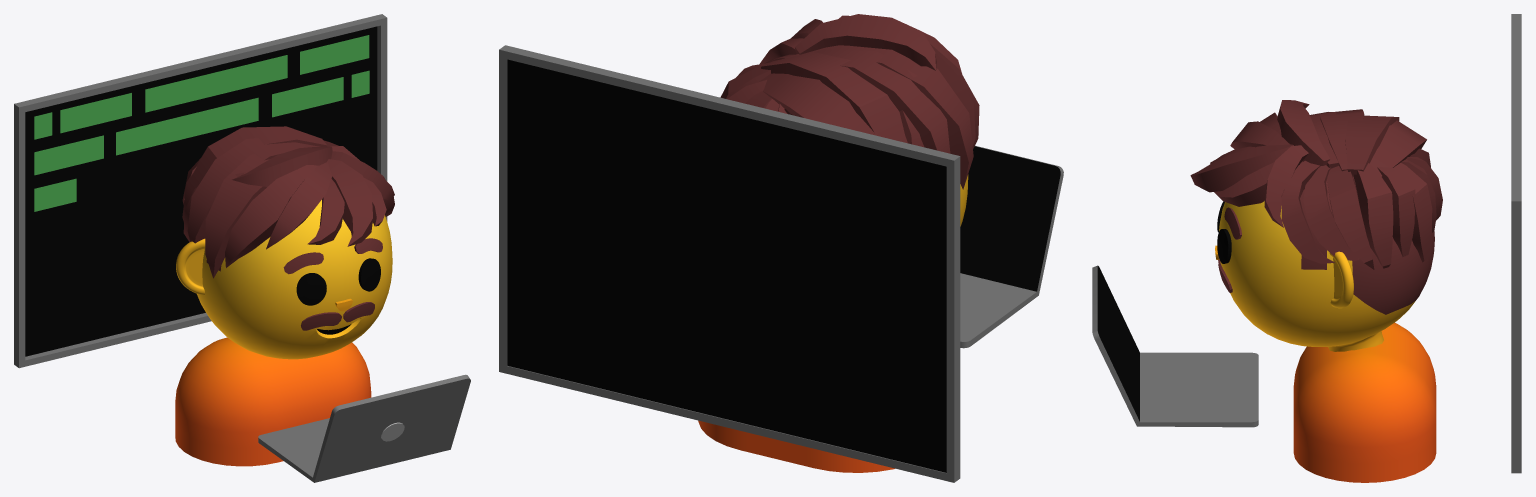
Rendered from man_technologist.glb.
3 views of the same model, side by side, from view 1: azimuth 30°, elevation 25°; view 2: azimuth 150°, elevation 25°; view 3: azimuth 270°, elevation 25° (orthographic). The views are drawn at different scales.
Parts seen in each view (by area): view 1: Plane.059, Cube.1475, Sphere.077, Roundcube.117, Plane.062, Circle.690, Cylinder.101, Circle.693, Circle.692; view 2: Plane.059, Cube.1475, Plane.062, Sphere.077; view 3: Cube.1475, Sphere.077, Roundcube.117, Plane.062, Plane.059, Cylinder.101, Circle.690.
Boxes of the visible parts, x1,y1,x2,y2 form: Plane.059: [14, 14, 387, 368]; Cube.1475: [182, 126, 394, 278]; Sphere.077: [175, 337, 371, 466]; Roundcube.117: [197, 200, 392, 359]; Plane.062: [258, 374, 470, 482]; Circle.690: [296, 258, 380, 305]; Cylinder.101: [176, 217, 386, 295]; Circle.693: [301, 302, 374, 330]; Circle.692: [283, 238, 382, 274]; Plane.059: [499, 45, 960, 482]; Cube.1475: [720, 14, 979, 189]; Plane.062: [960, 145, 1063, 348]; Sphere.077: [698, 420, 894, 472]; Cube.1475: [1190, 100, 1442, 269]; Sphere.077: [1293, 322, 1436, 482]; Roundcube.117: [1219, 161, 1434, 351]; Plane.062: [1092, 265, 1258, 427]; Plane.059: [1511, 14, 1521, 473]; Cylinder.101: [1329, 251, 1353, 308]; Circle.690: [1217, 201, 1231, 263].
Bounding box in the file's own units: 3.11 × 2.55 × 3.01.
1 material, 1 textured.
